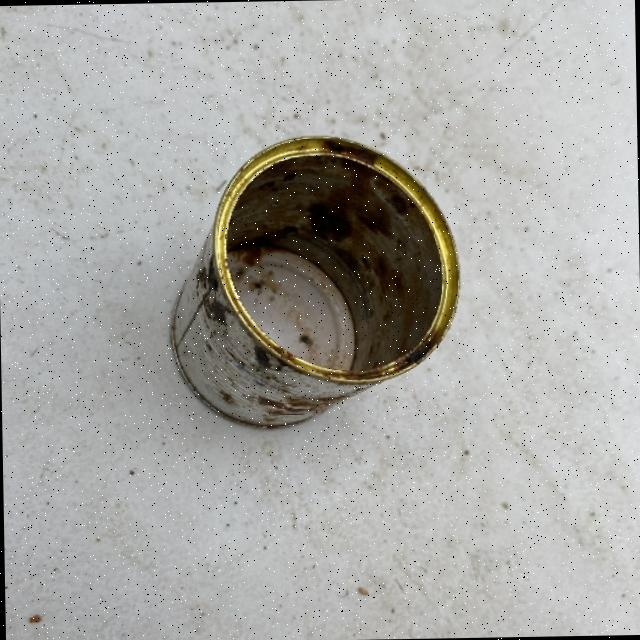metal: (165, 130, 462, 430)
